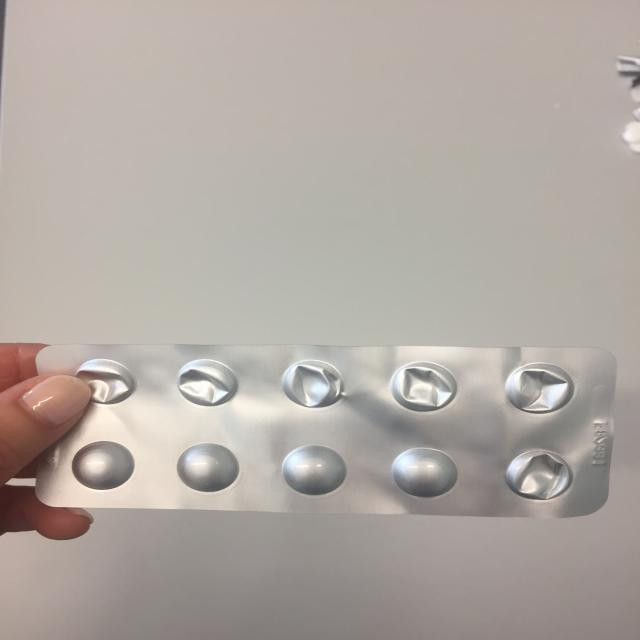Empty: (380, 358, 466, 417), (498, 446, 576, 504), (499, 360, 579, 416), (271, 356, 351, 411), (65, 356, 138, 408), (175, 357, 245, 409)
Pill: (272, 442, 355, 501), (387, 443, 463, 499), (171, 440, 245, 494), (66, 438, 138, 492)
